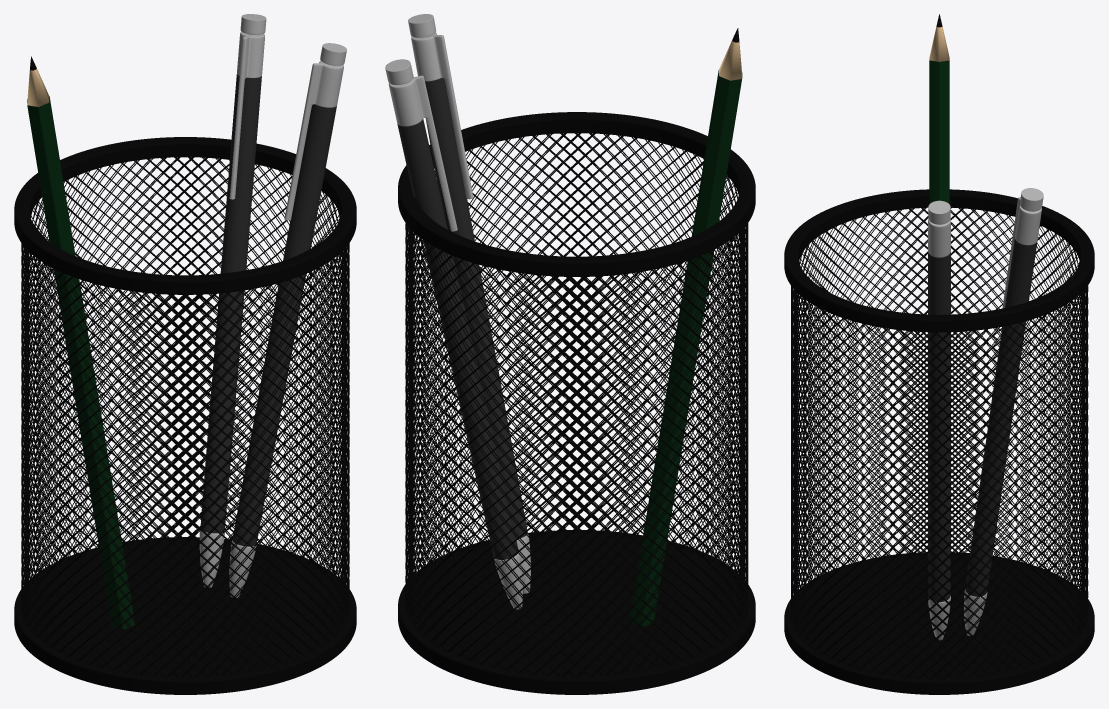
File: pen_holder.glb
3 views of the same model, side by side, from view 1: azimuth 30°, elevation 25°; view 2: azimuth 150°, elevation 25°; view 3: azimuth 270°, elevation 25° (orthographic). The views are drawn at different scales.
Visible parts, largest first — view 1: Cylinder_0, Cylinder.001_1, Cylinder.002_2, Cylinder.009_9, Cylinder.003_3, Cylinder.006_6, Cylinder.005_5, Cylinder.008_8, Cylinder.007_7, Cylinder.004_4, Cylinder.011_10; view 2: Cylinder_0, Cylinder.001_1, Cylinder.002_2, Cylinder.009_9, Cylinder.006_6, Cylinder.003_3, Cylinder.008_8, Cylinder.005_5, Cylinder.007_7, Cylinder.011_10; view 3: Cylinder_0, Cylinder.001_1, Cylinder.002_2, Cylinder.006_6, Cylinder.003_3, Cylinder.009_9, Cylinder.008_8, Cylinder.005_5, Cylinder.011_10, Cylinder.007_7.
Boxes of the visible parts, box(x1,y1,x2,y2) form: Cylinder_0: box(21, 157, 349, 678); Cylinder.001_1: box(14, 537, 356, 694); Cylinder.002_2: box(14, 137, 356, 294); Cylinder.009_9: box(27, 96, 134, 629); Cylinder.003_3: box(232, 104, 336, 546); Cylinder.006_6: box(200, 74, 261, 533); Cylinder.005_5: box(284, 43, 346, 220); Cylinder.008_8: box(229, 14, 266, 199); Cylinder.007_7: box(199, 530, 224, 587); Cylinder.004_4: box(229, 540, 256, 597); Cylinder.011_10: box(27, 56, 49, 106); Cylinder_0: box(405, 133, 748, 677); Cylinder.001_1: box(398, 530, 755, 694); Cylinder.002_2: box(398, 112, 755, 276); Cylinder.009_9: box(630, 70, 742, 626); Cylinder.006_6: box(397, 119, 518, 559); Cylinder.003_3: box(425, 78, 526, 538); Cylinder.008_8: box(385, 59, 457, 231); Cylinder.005_5: box(408, 14, 473, 199); Cylinder.007_7: box(493, 552, 522, 609); Cylinder.011_10: box(719, 28, 741, 80); Cylinder_0: box(791, 207, 1088, 679); Cylinder.001_1: box(784, 552, 1094, 694); Cylinder.002_2: box(784, 189, 1094, 332); Cylinder.006_6: box(965, 238, 1037, 596); Cylinder.003_3: box(928, 252, 950, 602); Cylinder.009_9: box(929, 60, 949, 203); Cylinder.008_8: box(1002, 188, 1043, 308); Cylinder.005_5: box(928, 200, 950, 257); Cylinder.011_10: box(929, 14, 949, 61); Cylinder.007_7: box(964, 589, 987, 635).
Bounding box in the file's own units: 1.71 × 3.1 × 1.6.
